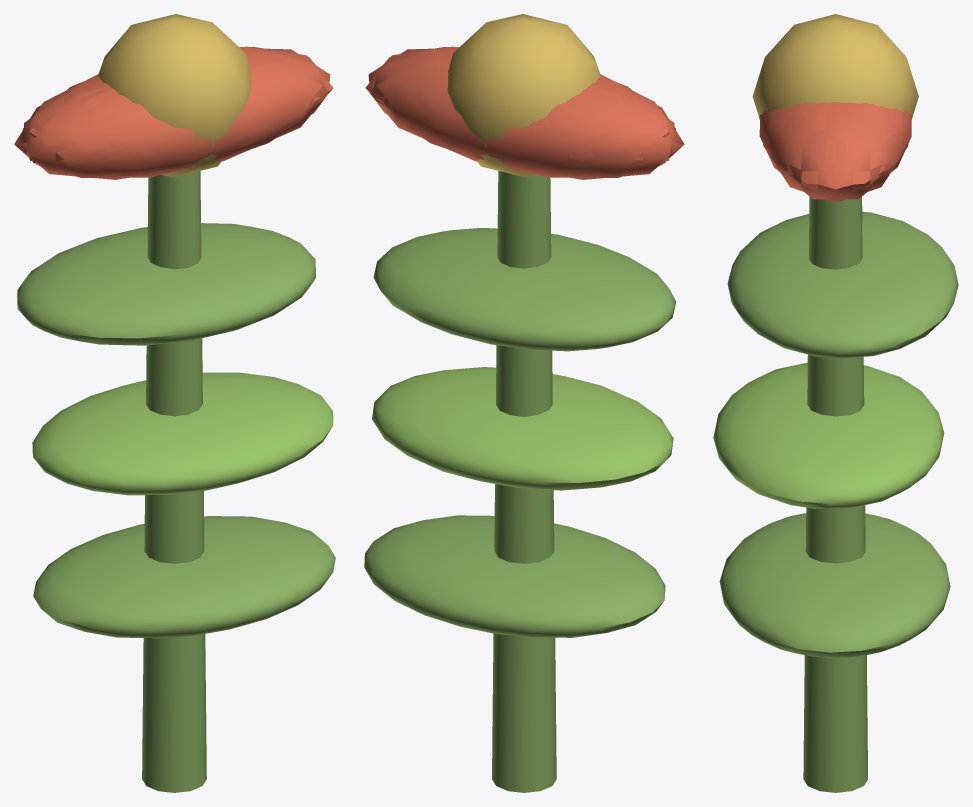
The model's file is ficus-religiosa.glb.
The picture shows the model from 3 angles, left to right: view 1: azimuth 30°, elevation 25°; view 2: azimuth 150°, elevation 25°; view 3: azimuth 270°, elevation 25°; orthographic projection.
Parts seen in each view (by area): view 1: leaf1, leaf2, leaf0, stem, center, petal6, petal2, petal1, petal5, petal7, petal0; view 2: leaf2, leaf0, leaf1, stem, center, petal3, petal7, petal8, petal4, petal2, petal0; view 3: leaf1, leaf2, leaf0, stem, center, petal0, petal4, petal5, petal8, petal1.
Boxes of the visible parts, x1,y1,x2,y2 form: leaf1: (32,372,333,495); leaf2: (17,223,315,345); leaf0: (33,516,335,638); stem: (142,171,206,792); center: (98,14,250,177); petal6: (32,88,236,177); petal2: (24,82,181,179); petal1: (104,66,314,175); petal5: (169,56,332,167); petal7: (14,77,118,170); petal0: (244,48,330,150); leaf2: (373,228,676,351); leaf0: (364,515,665,637); leaf1: (372,367,673,490); stem: (492,171,556,792); center: (447,14,600,177); petal3: (461,88,666,177); petal7: (517,82,674,179); petal8: (383,66,594,175); petal4: (365,56,529,167); petal2: (580,77,684,170); petal0: (368,48,454,150); leaf1: (713,362,944,508); leaf2: (727,211,958,358); leaf0: (719,513,950,657); stem: (803,196,867,792); center: (752,14,918,116); petal0: (774,102,897,199); petal4: (823,102,908,201); petal5: (763,102,848,201); petal8: (860,102,911,172); petal1: (759,102,811,172).
Size of the model in its own units: 0.1541 by 0.362 by 0.1061.
